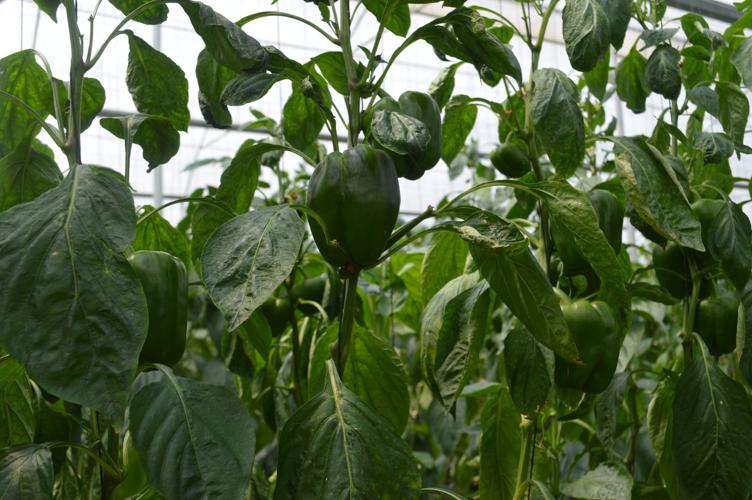BellPepper: (307, 146, 401, 273), (116, 248, 191, 366), (540, 300, 616, 394), (366, 88, 443, 180), (540, 187, 623, 270), (689, 195, 732, 267), (695, 294, 739, 363), (648, 242, 691, 299), (493, 143, 529, 179)
